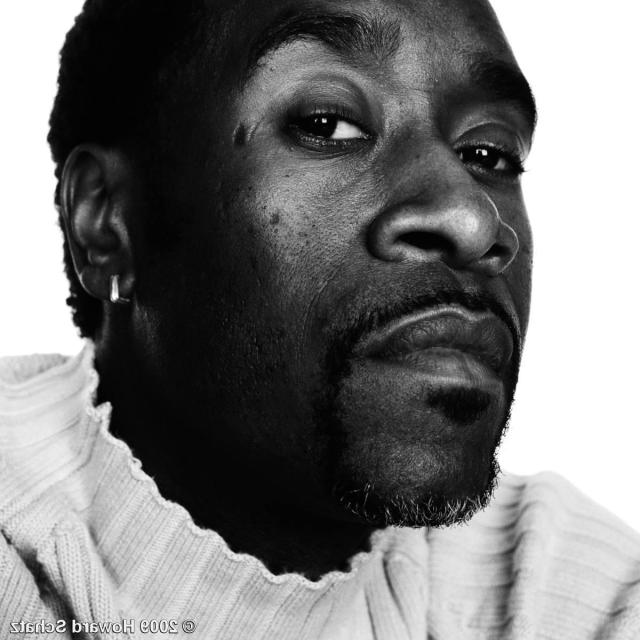no-earmuff: (43, 123, 174, 334)
